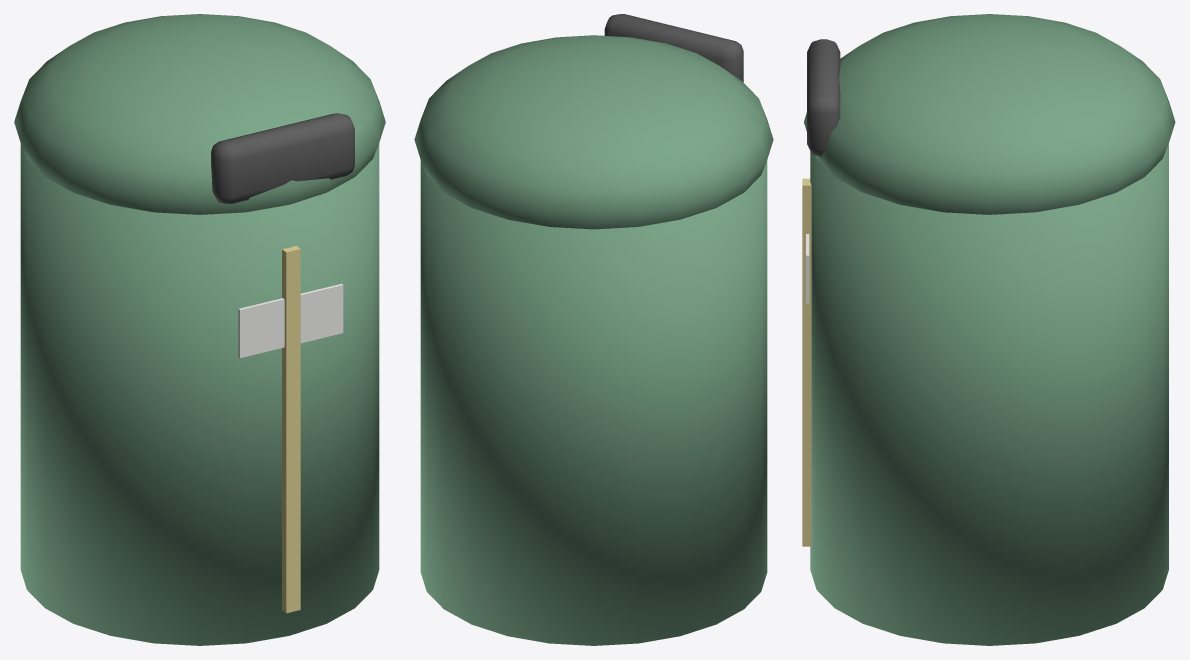
The model's file is street_bin.glb.
The picture shows the model from 3 angles, left to right: view 1: azimuth 30°, elevation 25°; view 2: azimuth 150°, elevation 25°; view 3: azimuth 270°, elevation 25°; orthographic projection. The views are drawn at different scales.
Visible parts, largest first — view 1: Cylinder, Sphere, Cube, Cube.001, Cube.002; view 2: Cylinder, Sphere, Cube; view 3: Cylinder, Sphere, Cube.001, Cube.
Part boxes in pixels (<box>): Cylinder: <box>20,143,379,645</box>; Sphere: <box>14,14,385,214</box>; Cube: <box>211,113,354,203</box>; Cube.001: <box>282,246,300,613</box>; Cube.002: <box>238,283,343,358</box>; Cylinder: <box>420,160,767,645</box>; Sphere: <box>414,35,773,229</box>; Cube: <box>604,14,743,82</box>; Cylinder: <box>810,143,1168,645</box>; Sphere: <box>804,14,1175,214</box>; Cube.001: <box>802,178,811,546</box>; Cube: <box>807,39,840,156</box>.
Bounding box in the file's own units: 0.56 × 0.946 × 0.562.
